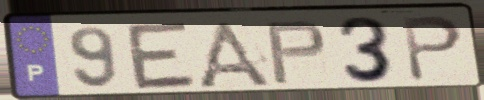3: (337, 14, 398, 86)
9: (67, 25, 119, 90)
A: (192, 18, 277, 89)
E: (123, 19, 201, 92)
P: (399, 13, 466, 84), (263, 18, 330, 87)
